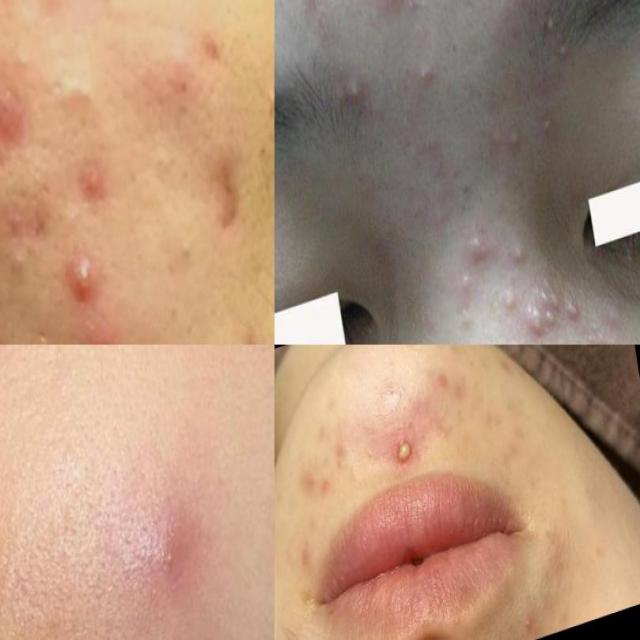acne_scars: (54, 234, 111, 313)
comedone: (61, 137, 115, 222), (3, 38, 48, 97), (147, 132, 176, 208), (70, 70, 104, 128), (448, 169, 485, 214), (172, 224, 202, 277), (397, 345, 423, 369), (435, 416, 453, 450), (38, 0, 75, 13), (262, 72, 274, 110)
papule: (133, 500, 209, 612), (62, 313, 134, 345), (486, 276, 527, 330), (287, 0, 330, 25)
pustule: (455, 216, 497, 276), (383, 423, 422, 481), (340, 68, 374, 120), (560, 284, 587, 338), (499, 116, 528, 164), (502, 227, 530, 274), (534, 107, 562, 151), (538, 282, 562, 333), (451, 263, 477, 307), (536, 0, 560, 47), (523, 302, 549, 344), (414, 53, 436, 99), (369, 0, 417, 19), (520, 614, 536, 634)
